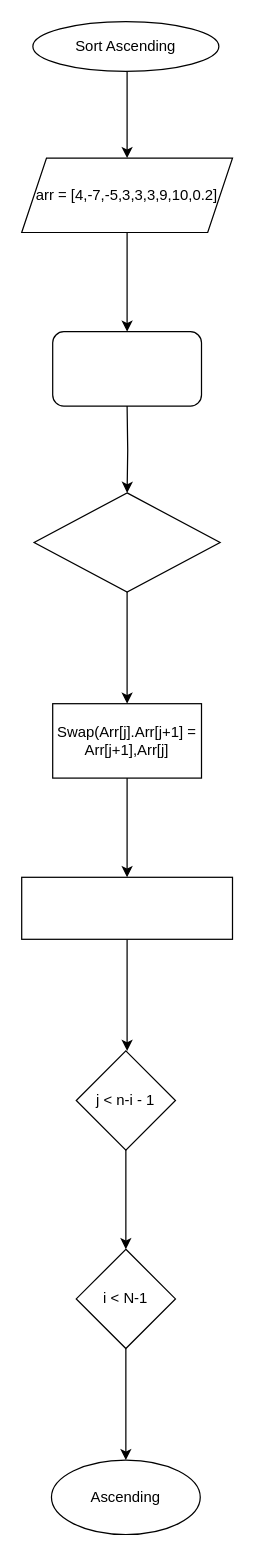
This 254x1556 diagram has some shape labels left out. The centre of each missing label's shape, as x and y in pixels:
"Array[i] < Array[j+1]" goes at pixel 126 542.
"i = 0 j = 0" goes at pixel 126 368.
"increment j (j++)" goes at pixel 126 907.
